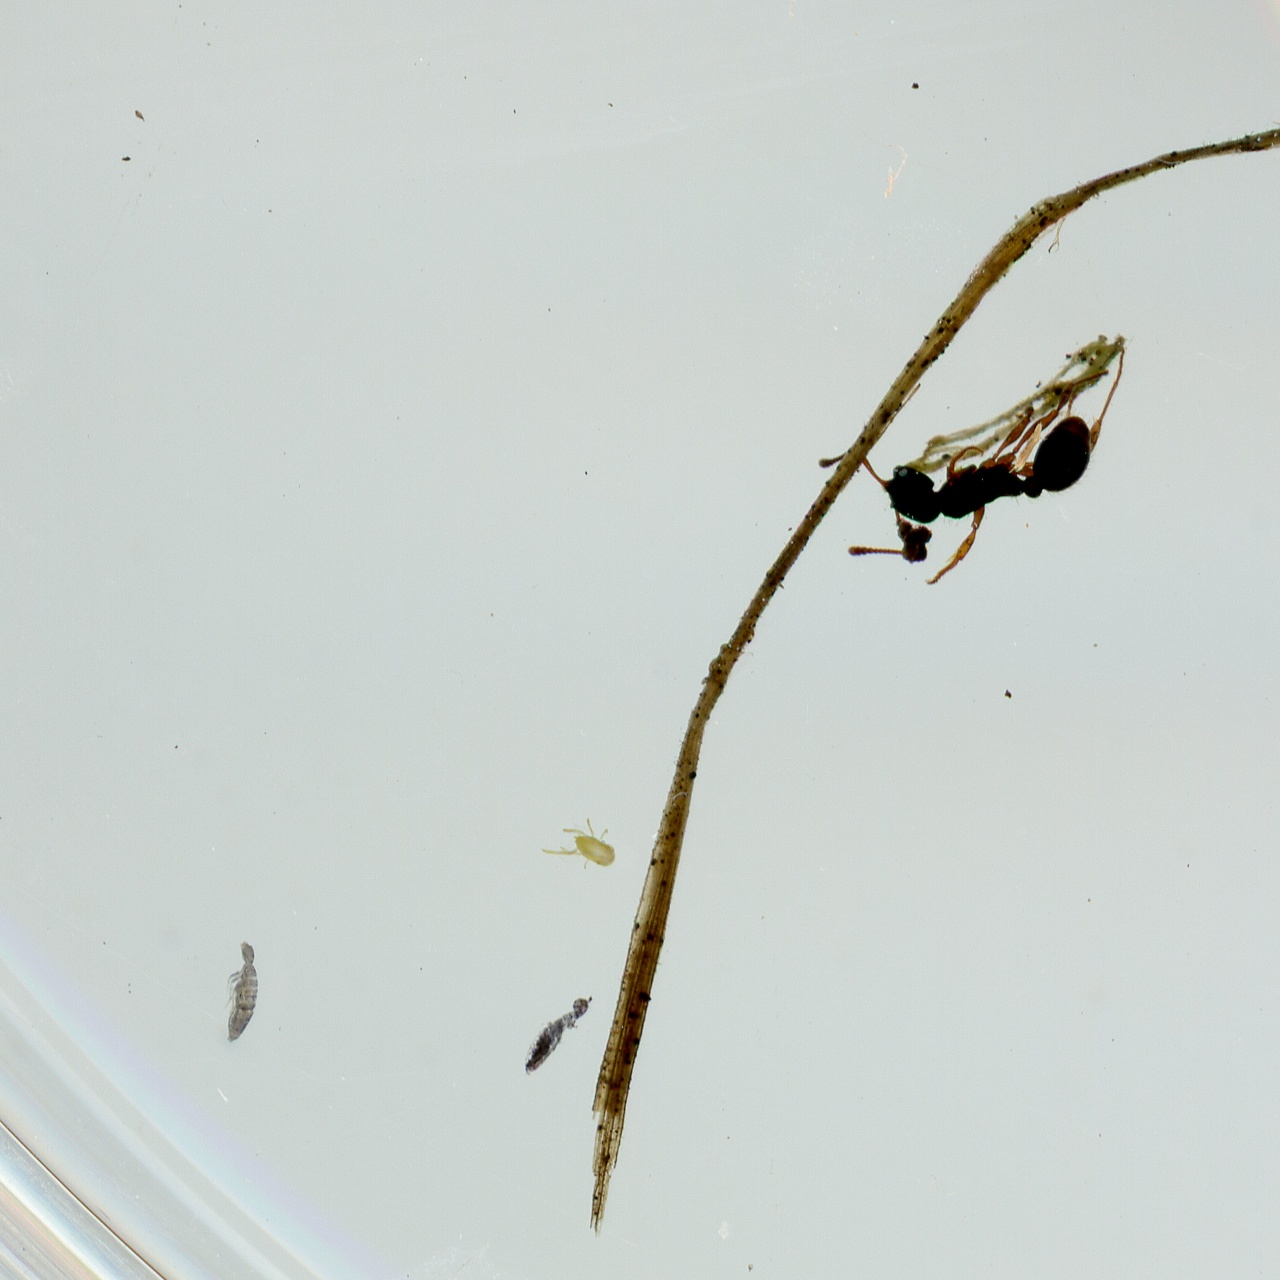arthropod: (799, 308, 1187, 618), (499, 967, 607, 1103), (218, 933, 266, 1061), (539, 817, 618, 871)
